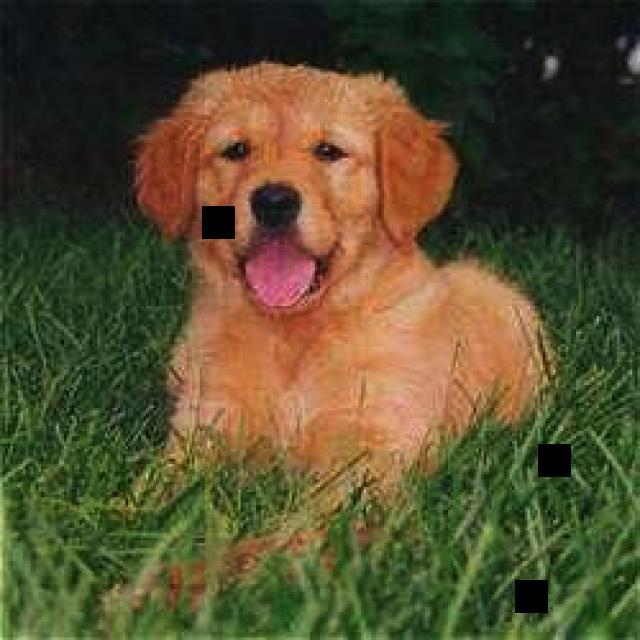puppy-dog: (131, 58, 550, 535)
